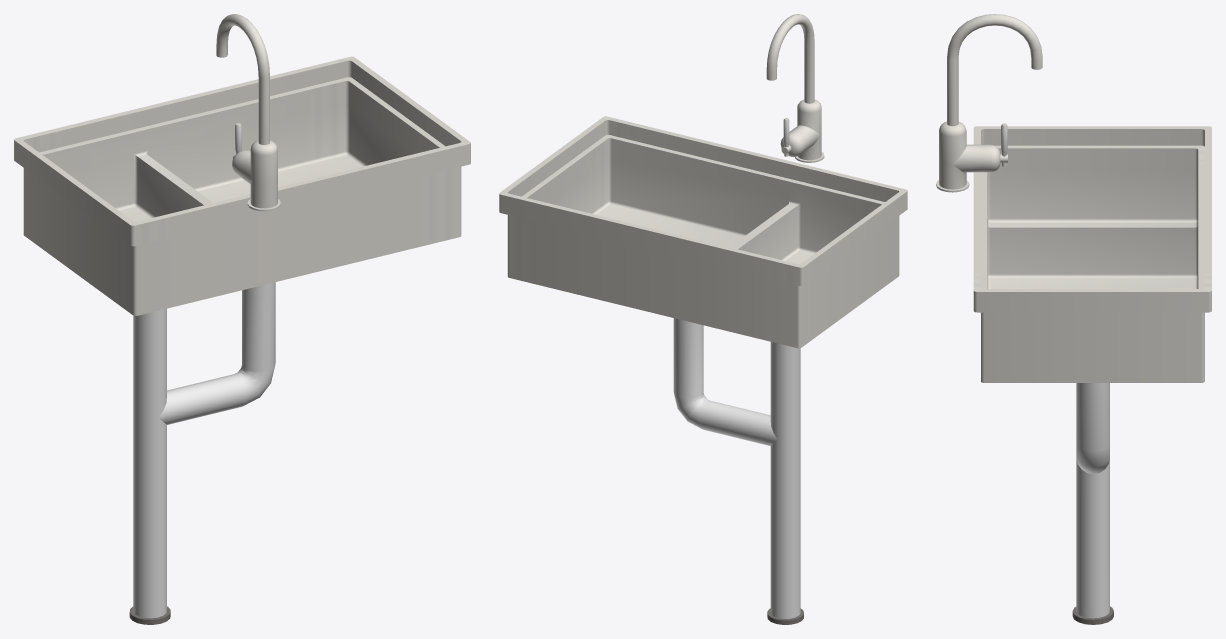
The model's file is Sink04.glb.
3 views of the same model, side by side, from view 1: azimuth 30°, elevation 25°; view 2: azimuth 150°, elevation 25°; view 3: azimuth 270°, elevation 25° (orthographic). The views are drawn at different scales.
Visible parts, largest first — view 1: Sink04_model, SinkFaucet04; view 2: Sink04_model, SinkFaucet04, SinkFaucet04Handle; view 3: Sink04_model, SinkFaucet04, SinkFaucet04Handle.
Boxes of the visible parts, x1,y1,x2,y2 form: Sink04_model: [14, 56, 470, 624]; SinkFaucet04: [216, 14, 280, 211]; Sink04_model: [499, 116, 907, 624]; SinkFaucet04: [766, 14, 824, 162]; SinkFaucet04Handle: [780, 118, 806, 156]; Sink04_model: [973, 126, 1211, 624]; SinkFaucet04: [936, 14, 1042, 192]; SinkFaucet04Handle: [983, 123, 1007, 172].
Bounding box in the file's own units: 1.38 × 2.42 × 0.9711.
1 material, 1 textured.
